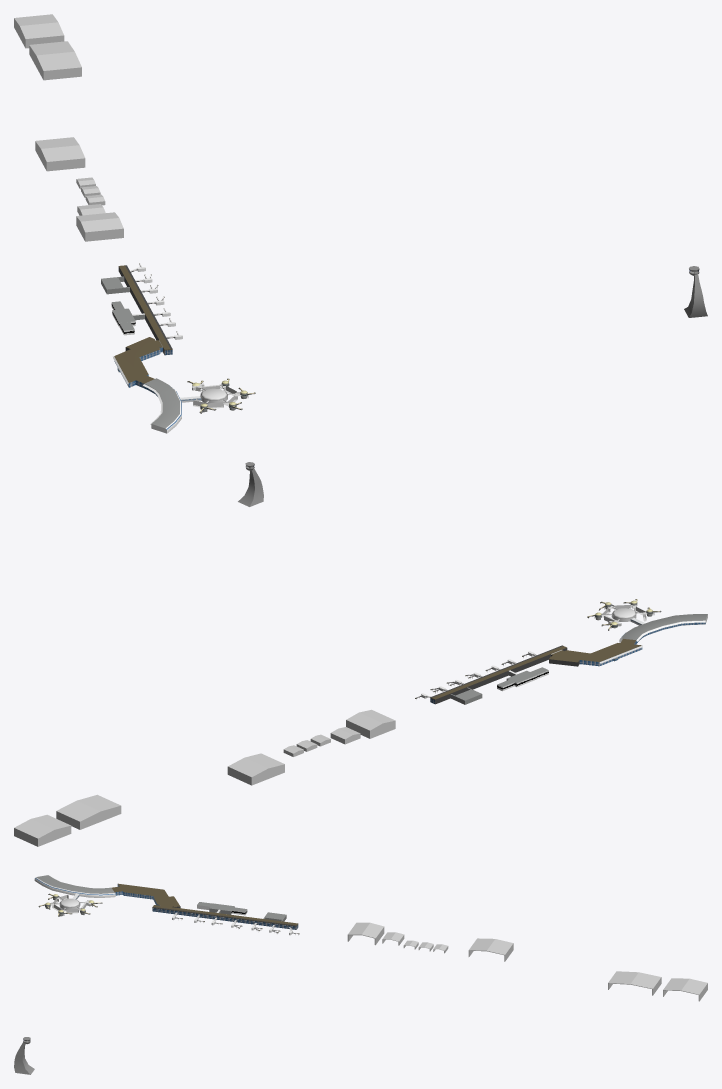
The model's file is auh2.glb.
3 views of the same model, one above another, from view 1: azimuth 30°, elevation 25°; view 2: azimuth 150°, elevation 25°; view 3: azimuth 270°, elevation 25° (orthographic). The views are drawn at different scales.
Visible parts, largest first — view 1: Cube.016, Cube; view 2: Cube.016, Cube; view 3: Cube.016, Cube, Cube.014, Cube.017.
Boxes of the visible parts, bbox=[...] form: Cube.016: bbox=[14, 14, 123, 241]; Cube: bbox=[111, 265, 201, 433]; Cube.016: bbox=[14, 709, 395, 846]; Cube: bbox=[430, 614, 707, 704]; Cube.016: bbox=[347, 922, 707, 1001]; Cube: bbox=[34, 875, 298, 926]; Cube.014: bbox=[152, 908, 298, 929]; Cube.017: bbox=[14, 1040, 34, 1074].
Size of the model in its own units: 1401 by 108 by 2104.
8 materials, 3 textured.
